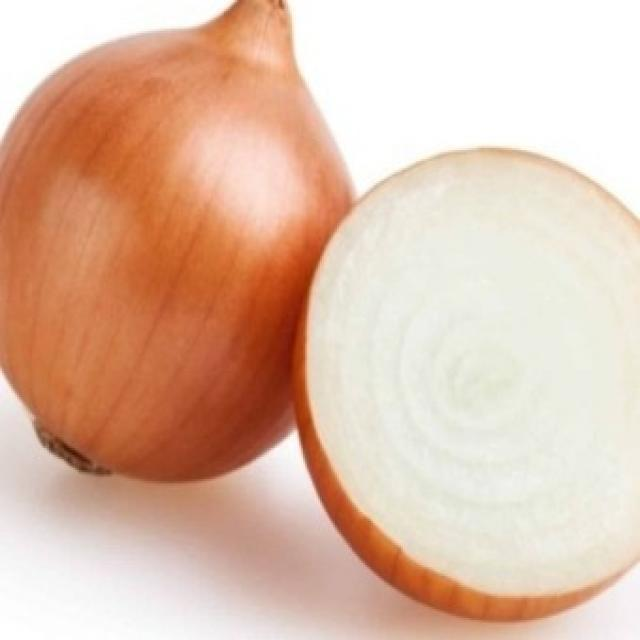onion: (12, 1, 352, 495), (312, 151, 634, 620)
